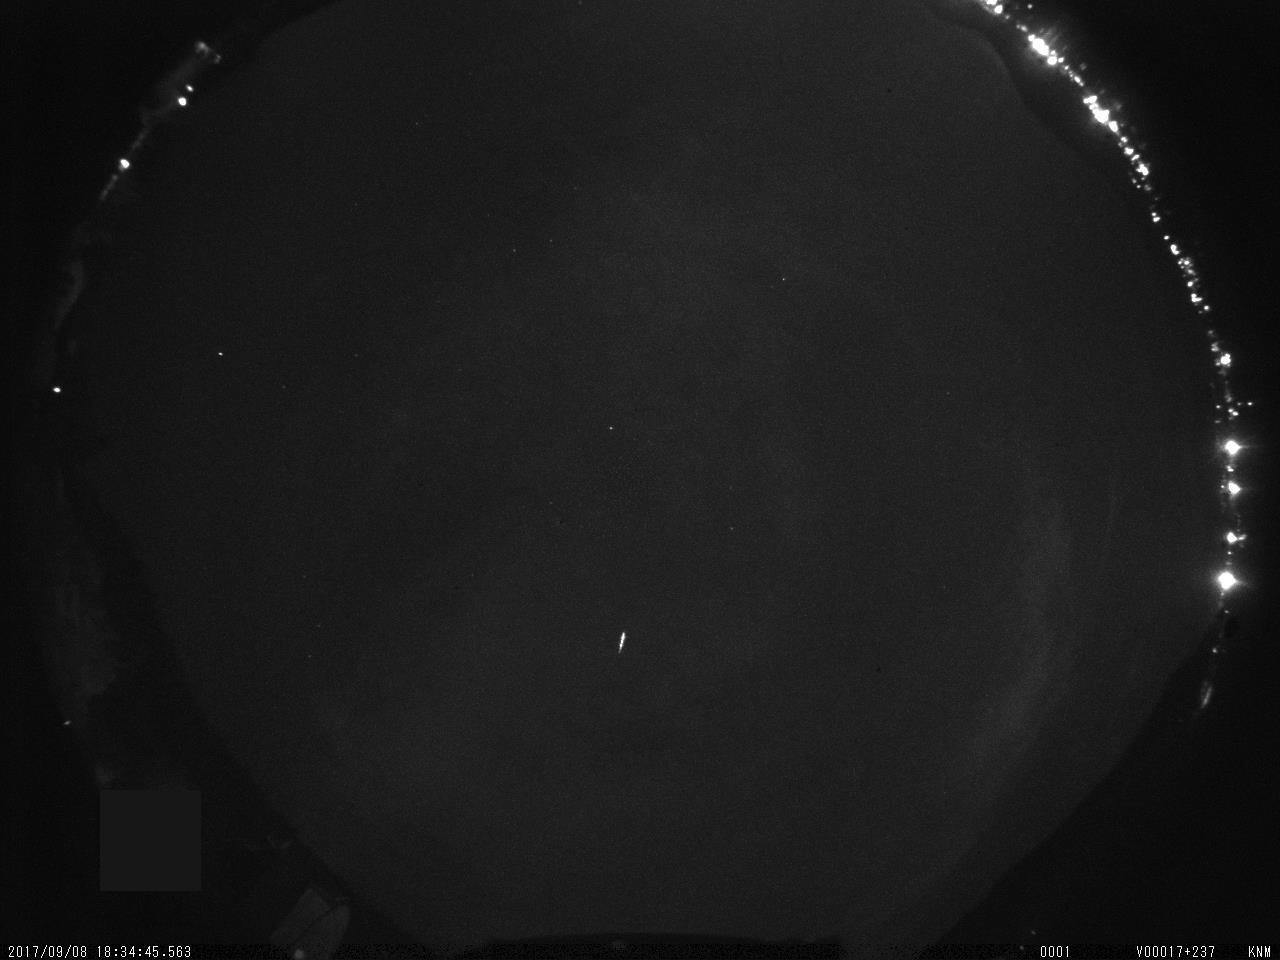meteor: (600, 617, 653, 656)
